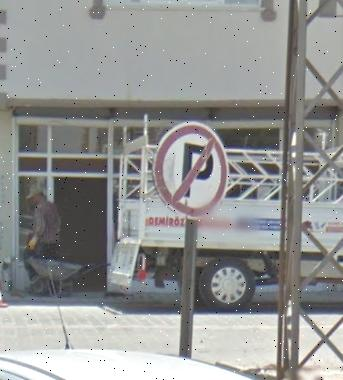park: (157, 123, 227, 215)
